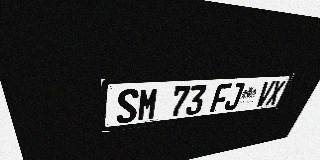3: (185, 85, 208, 116)
7: (168, 86, 191, 118)
F: (209, 83, 232, 113)
J: (223, 83, 245, 111)
M: (137, 87, 159, 122)
S: (116, 88, 139, 124)
V: (254, 81, 276, 107)
X: (265, 80, 286, 106)
